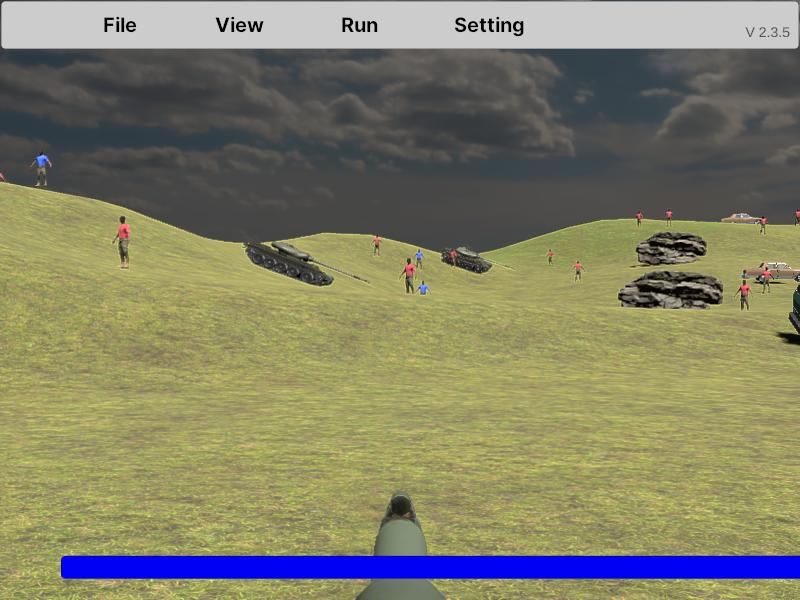Human: (112, 215, 131, 270)
Tank: (242, 240, 371, 288), (441, 246, 514, 274), (441, 247, 515, 274)
car: (743, 261, 800, 283)
